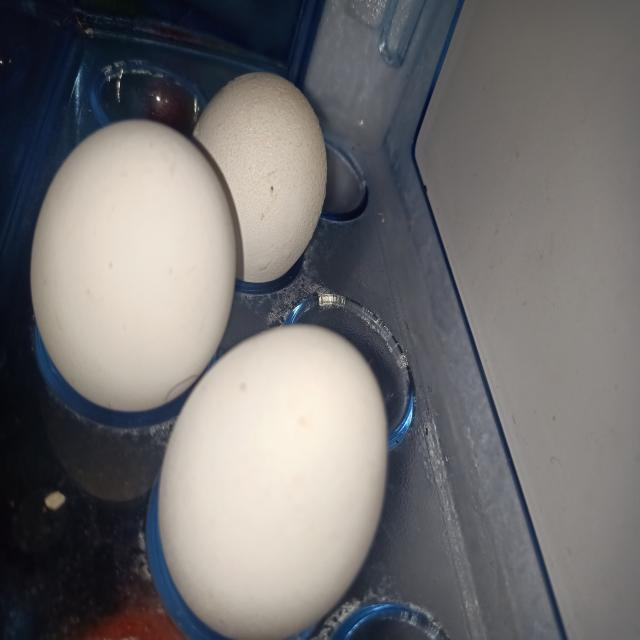Egg: (157, 325, 387, 639), (30, 119, 236, 412), (193, 72, 327, 282)
